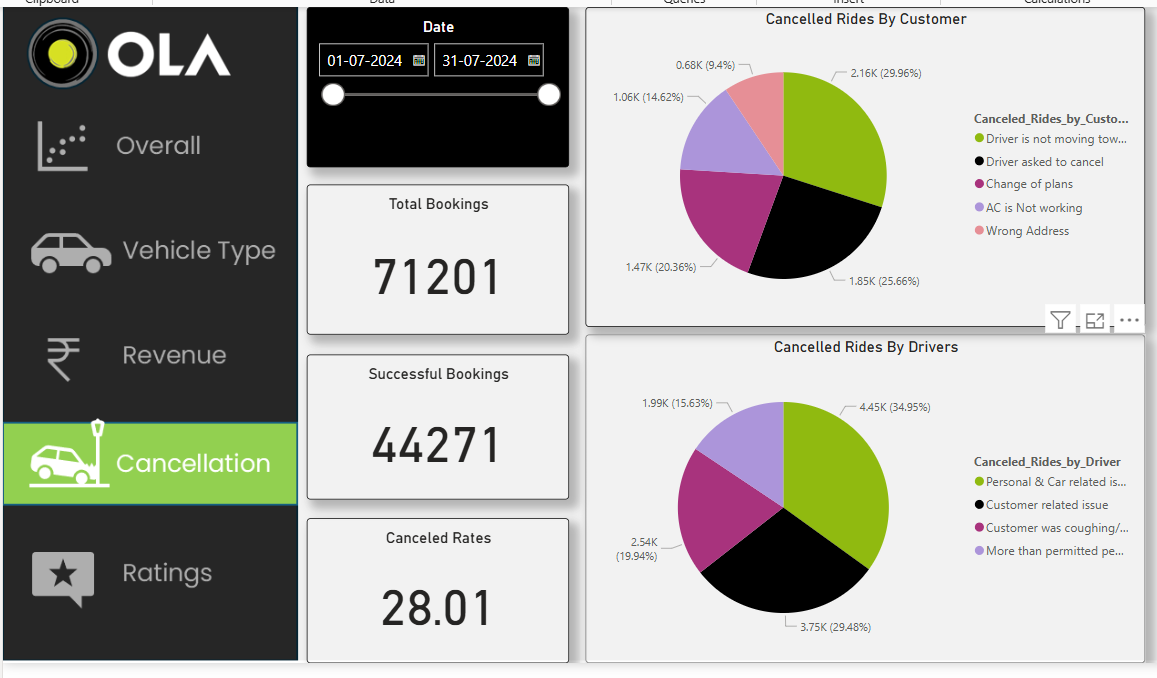

What the dashboard file says about the page in this screenshot:
{"tool":"powerbi","page":{"name":"Cancellations","canvas":[1280,720],"ordinal":3},"visuals":[{"type":"actionButton","box":[0,224.4,324.5,89.3],"z":0},{"type":"actionButton","box":[0,336.6,324.5,89.3],"z":1000},{"type":"actionButton","box":[0,580.3,324.5,89.3],"z":2000},{"type":"actionButton","box":[0,106.2,324.5,89.3],"z":3000},{"type":"pieChart","title":"Cancelled Rides By Customer","fields":{"Category":["July.Canceled_Rides_by_Customer"],"Y":["CountNonNull(July.Canceled_Rides_by_Customer)"]},"box":[639.5,0,614.8,351.3],"z":4000},{"type":"pieChart","title":"Cancelled Rides By Drivers","fields":{"Category":["July.Canceled_Rides_by_Driver"],"Y":["CountNonNull(July.Canceled_Rides_by_Driver)"]},"box":[639.5,359.5,614.8,360.9],"z":5000},{"type":"slicer","title":"Date","fields":{"Values":["July.Date"]},"box":[333.4,0,288.2,175.6],"z":6000},{"type":"card","title":"Total Bookings","fields":{"Values":["CountNonNull(July.Booking_ID)"]},"box":[333.4,194.9,288.2,164.7],"z":7000},{"type":"card","title":"Successful Bookings","fields":{"Values":["CountNonNull(July.Booking_ID)"]},"box":[333.4,381.5,288.2,159.2],"z":8000},{"type":"card","title":"Canceled Rates","fields":{"Values":["July.CancelledPercentage"]},"box":[333.4,561.2,288.2,159.2],"z":9000}]}

Visuals, with their boxes on the page's 1280x720 design canvas (x1, y1, x2, y2). These are canvas units, not pixel positions in the 1157x678 screenshot, which may show the page scaled, cropped or inside an application window:
actionButton: <region>0, 224, 324, 314</region>
actionButton: <region>0, 337, 324, 426</region>
actionButton: <region>0, 580, 324, 670</region>
actionButton: <region>0, 106, 324, 196</region>
"Cancelled Rides By Customer" pieChart: <region>640, 0, 1254, 351</region>
"Cancelled Rides By Drivers" pieChart: <region>640, 360, 1254, 720</region>
"Date" slicer: <region>333, 0, 622, 176</region>
"Total Bookings" card: <region>333, 195, 622, 360</region>
"Successful Bookings" card: <region>333, 382, 622, 541</region>
"Canceled Rates" card: <region>333, 561, 622, 720</region>
